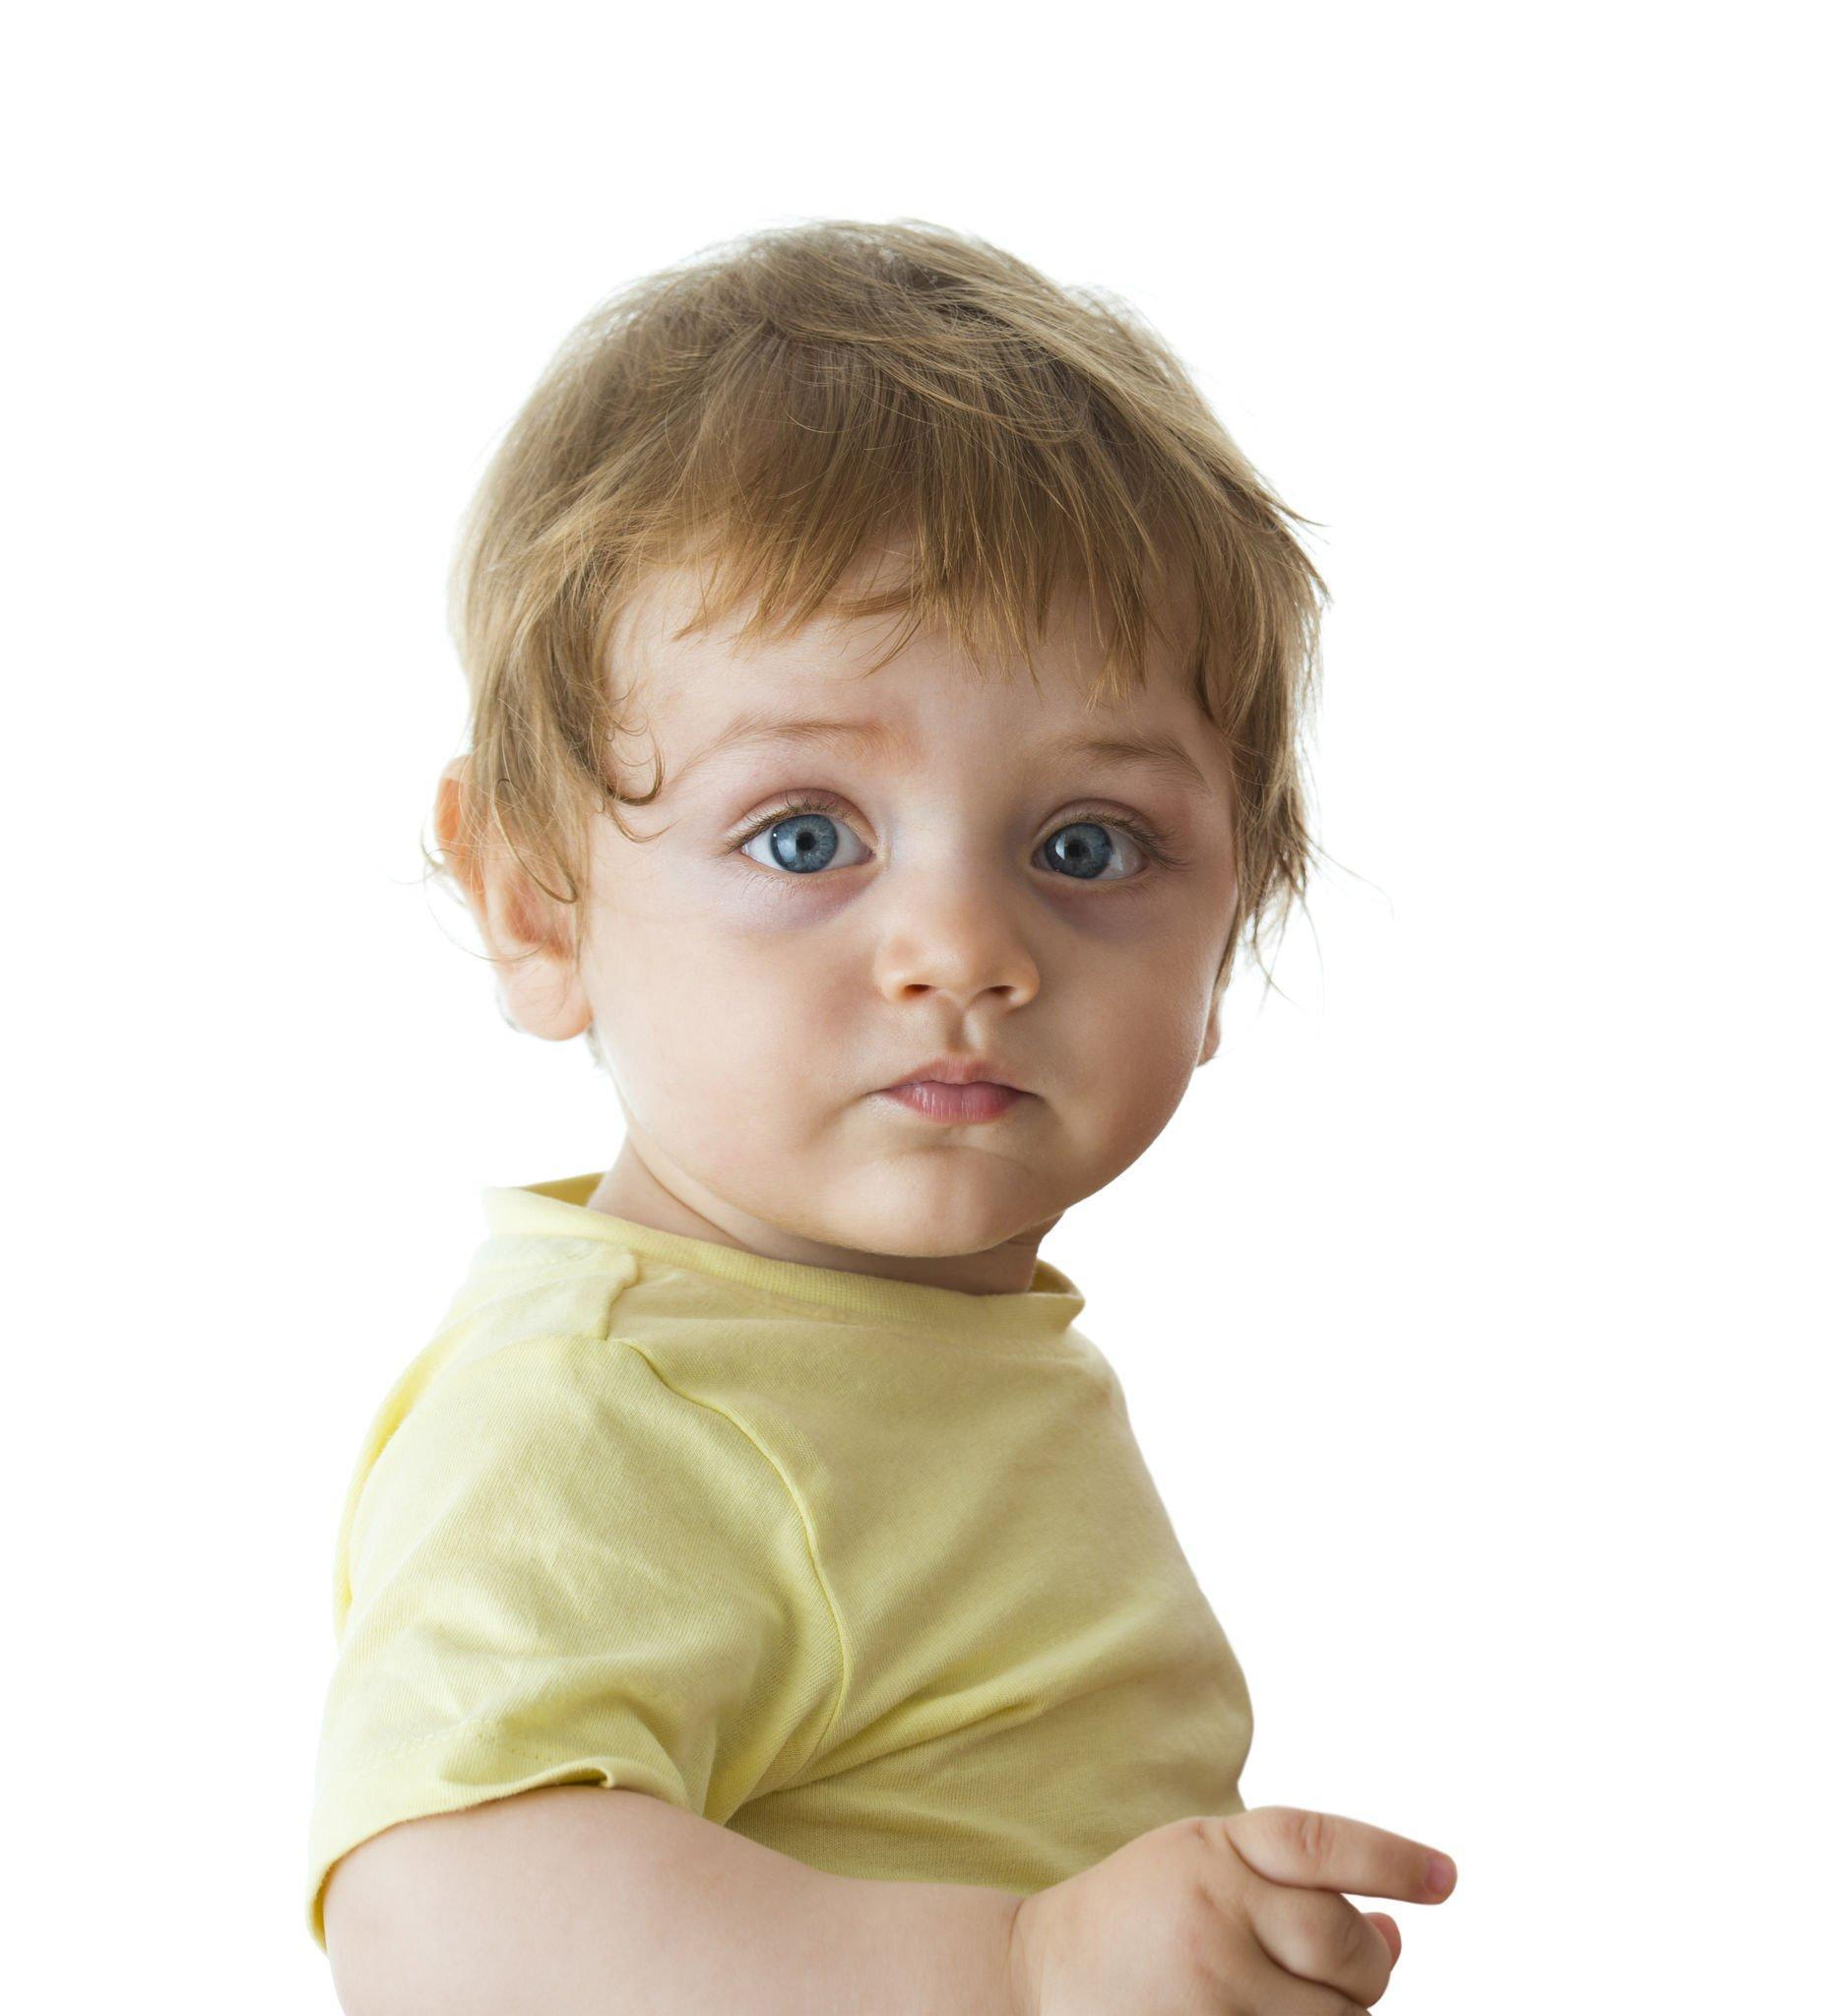Healthy: (562, 495, 1333, 1300)
